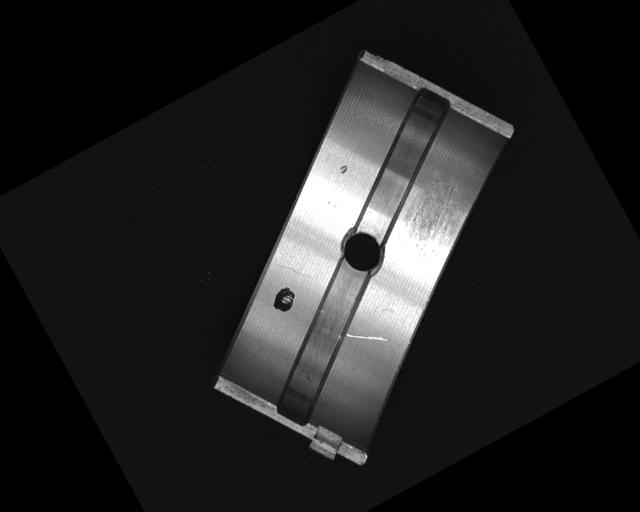blot: (267, 283, 301, 317)
bruise: (337, 163, 349, 175)
gap: (228, 254, 419, 436), (314, 79, 490, 244)
hole: (333, 218, 393, 281)
nick: (344, 316, 389, 357), (277, 251, 312, 292)
scratch: (383, 171, 490, 278)
